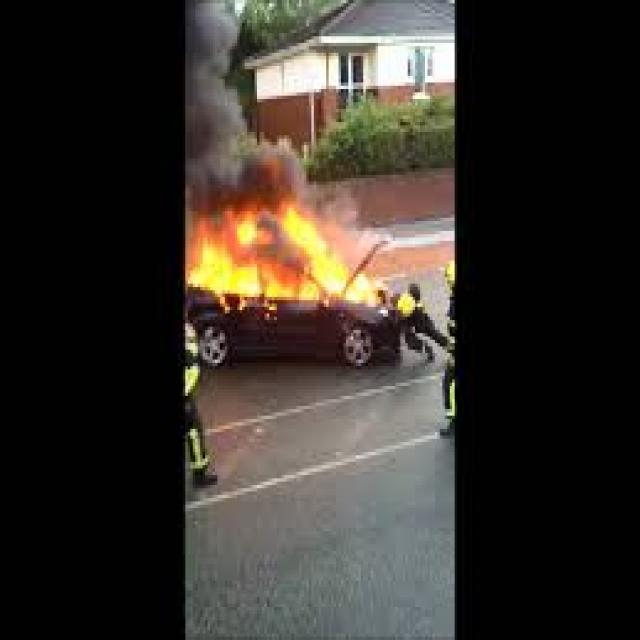fire: (178, 168, 410, 320)
